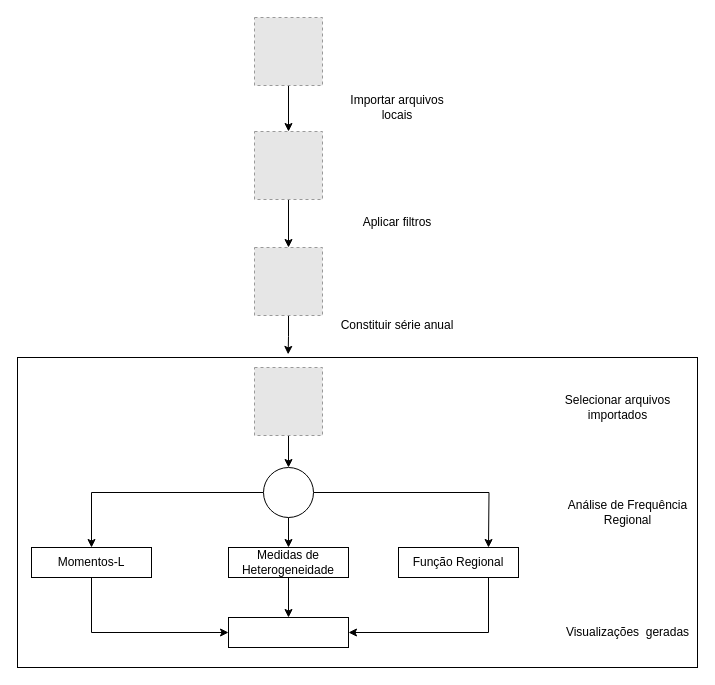
Image size: 715x685. Some labels were removed from this diagram. Grey dashed boxes stand in for pictures. Each missing label, with the centre of its shape:
fn: point (288, 492)
Output: point (288, 632)
